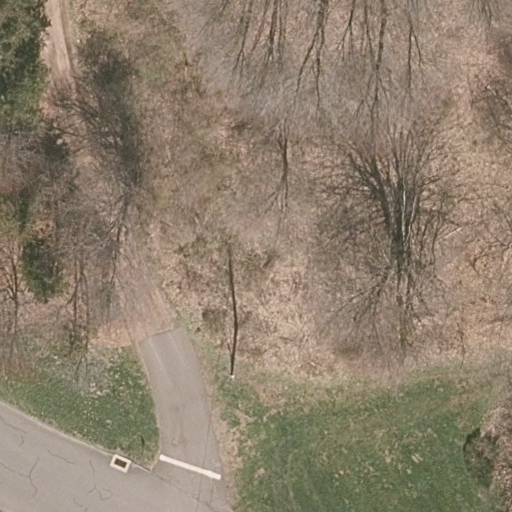DT: (223, 323, 243, 377)
